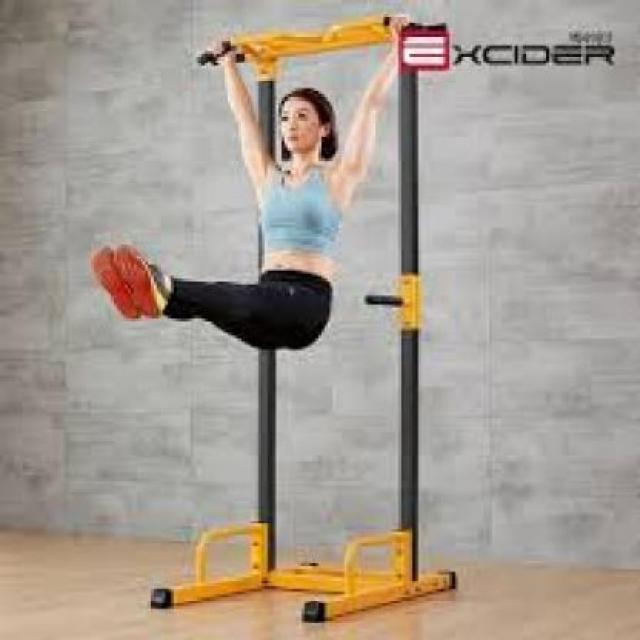chinning dipping: (150, 14, 458, 621)
